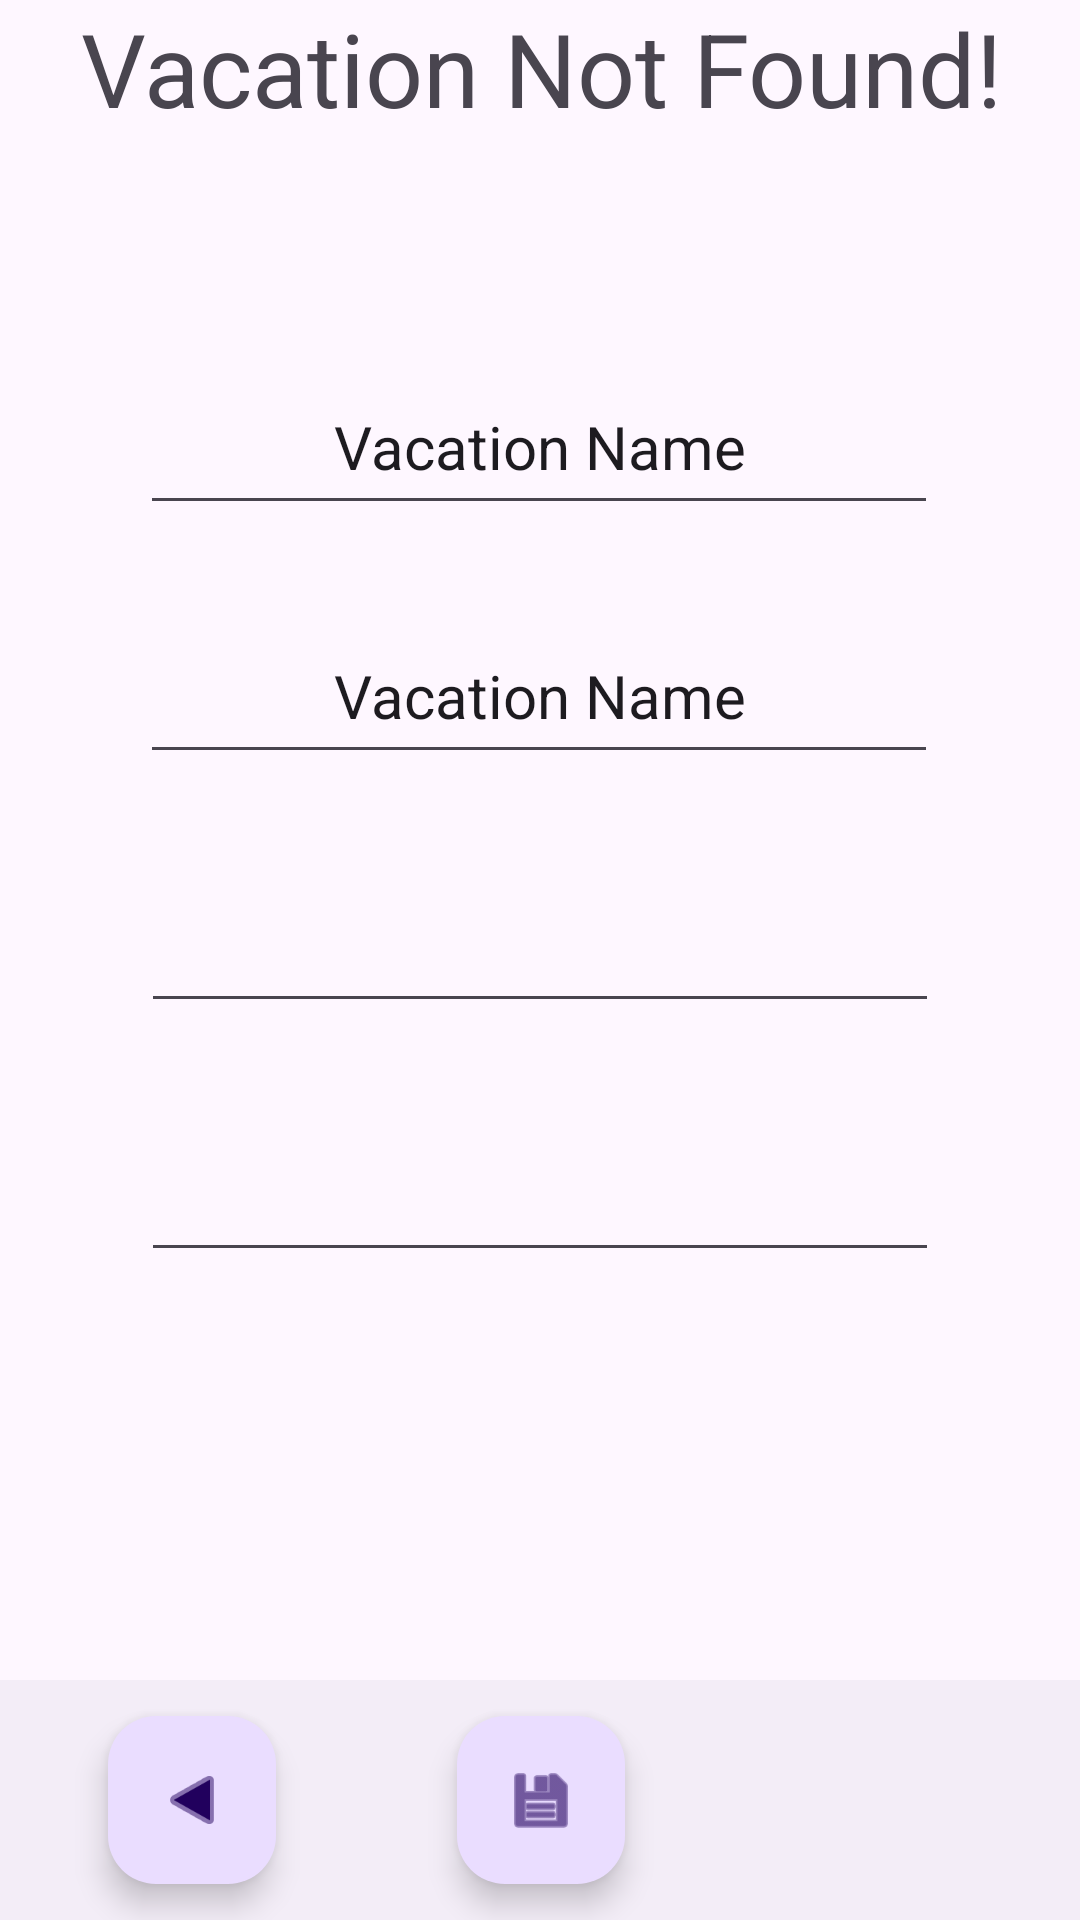

Icons on this 1080w x 1920h Android screen, each with the point to tap as [x,y]:
save: [541,1800]
